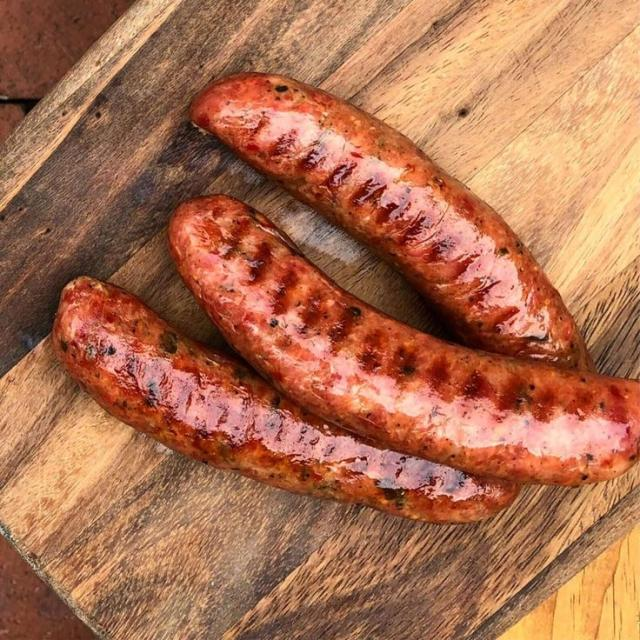sausage: (169, 196, 639, 485), (191, 74, 593, 369), (54, 278, 518, 522)
